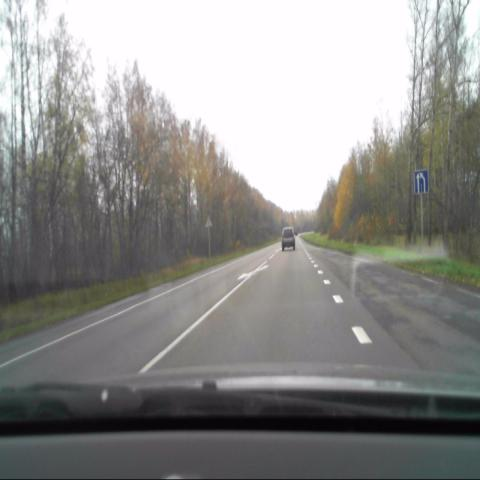5_15_5: (413, 169, 428, 194)
